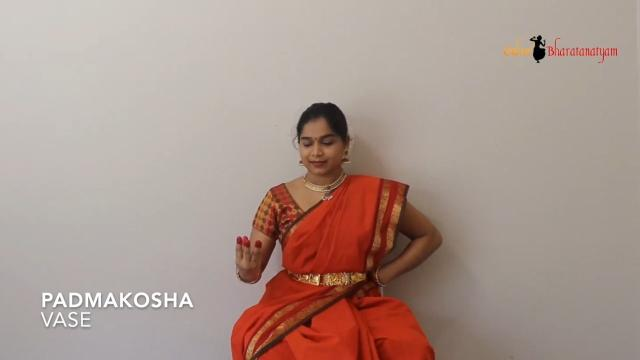padamkosh: (199, 207, 277, 301)
